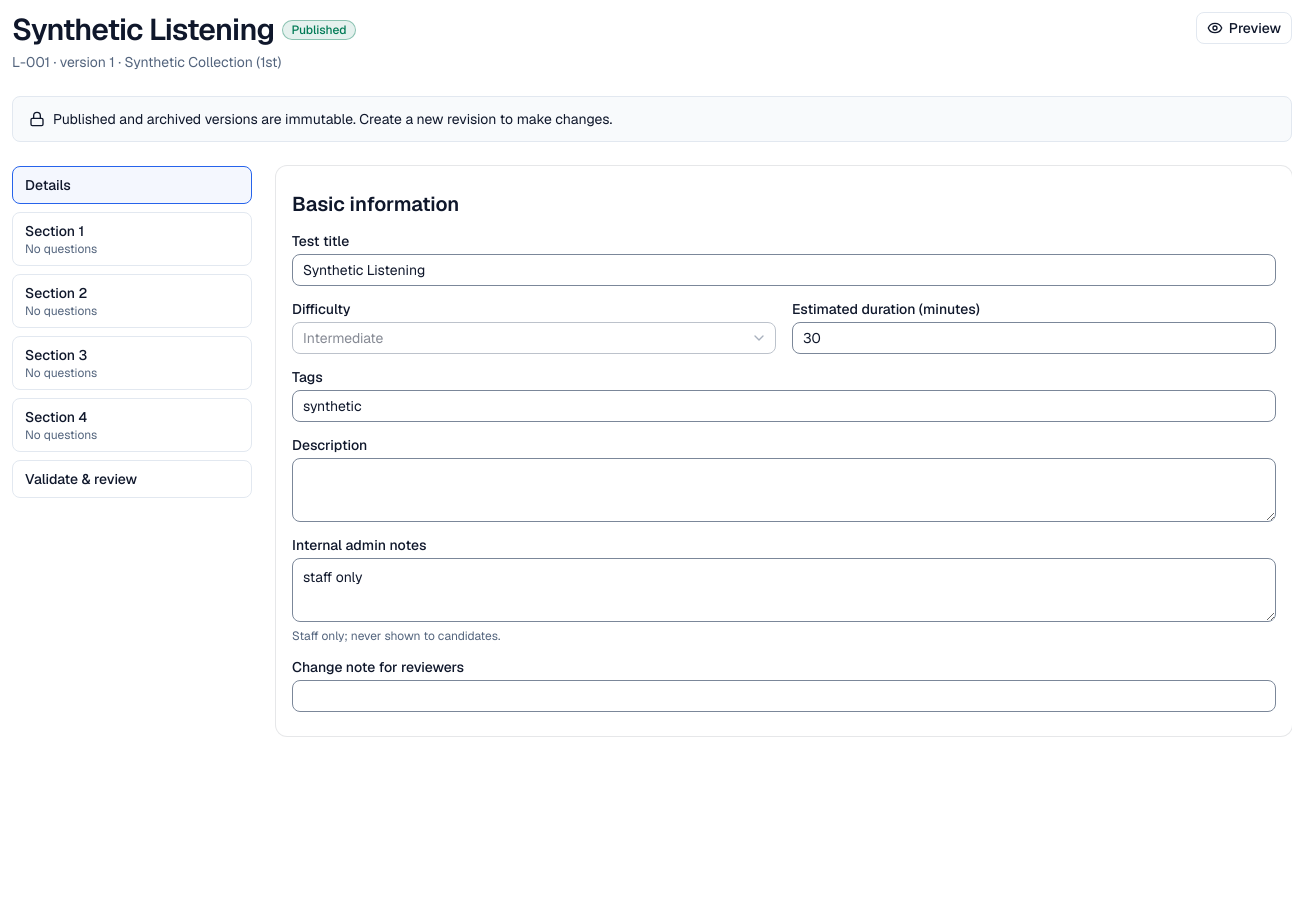
Test: ListeningEditor › locks published versions and offers a new revision instead
The width and height of the screenshot is (1292, 912).
expect the text "Published and archived versions are immutable" is shown: met, box [53, 110, 612, 128]
expect the button "Save" is not shown: met
Click the button "Validate & review" at (132, 479), box [12, 460, 252, 498]
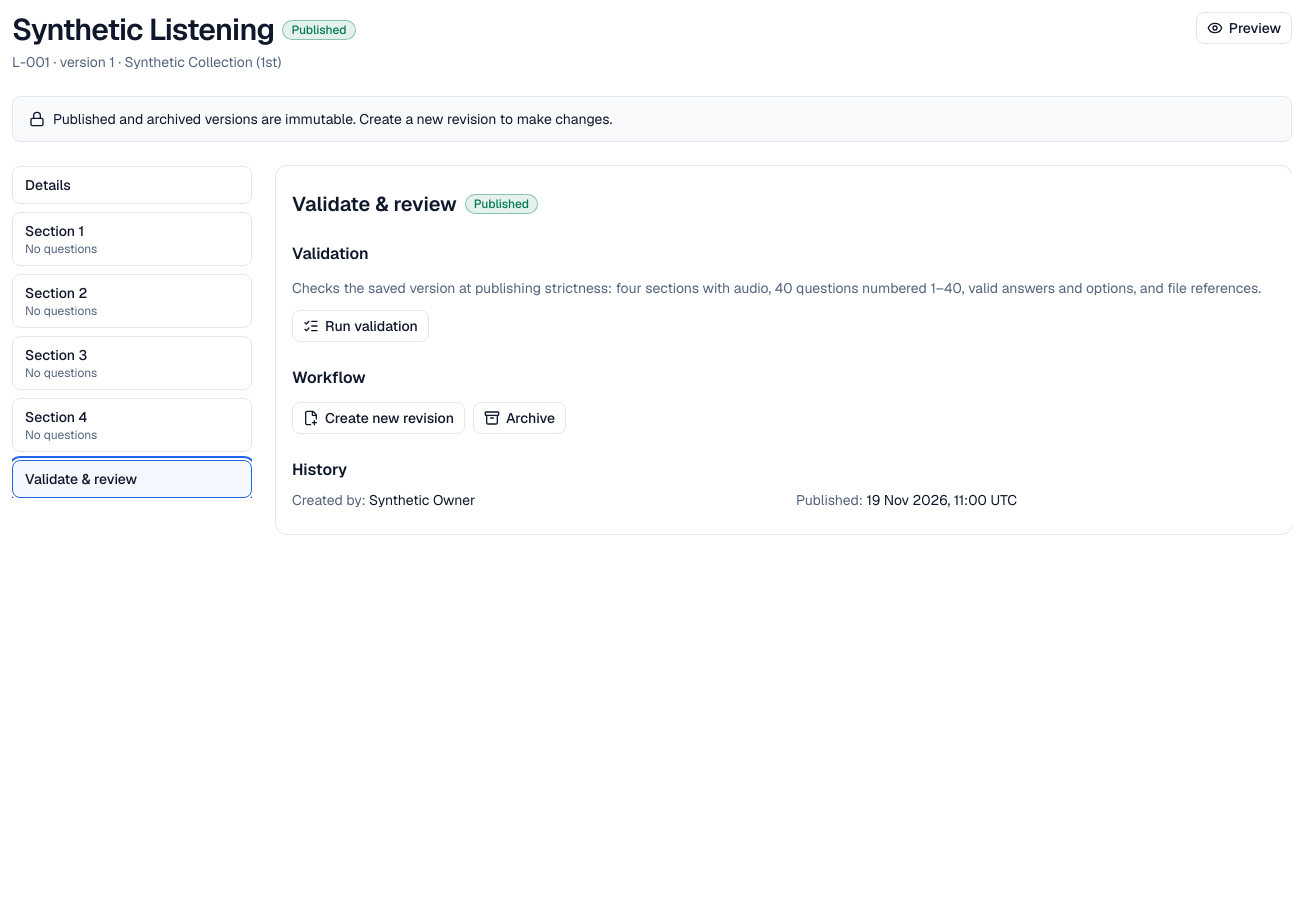
expect the button "Create new revision" is shown: met, box [292, 402, 465, 434]
expect the button "Archive" is shown: met, box [473, 402, 566, 434]
